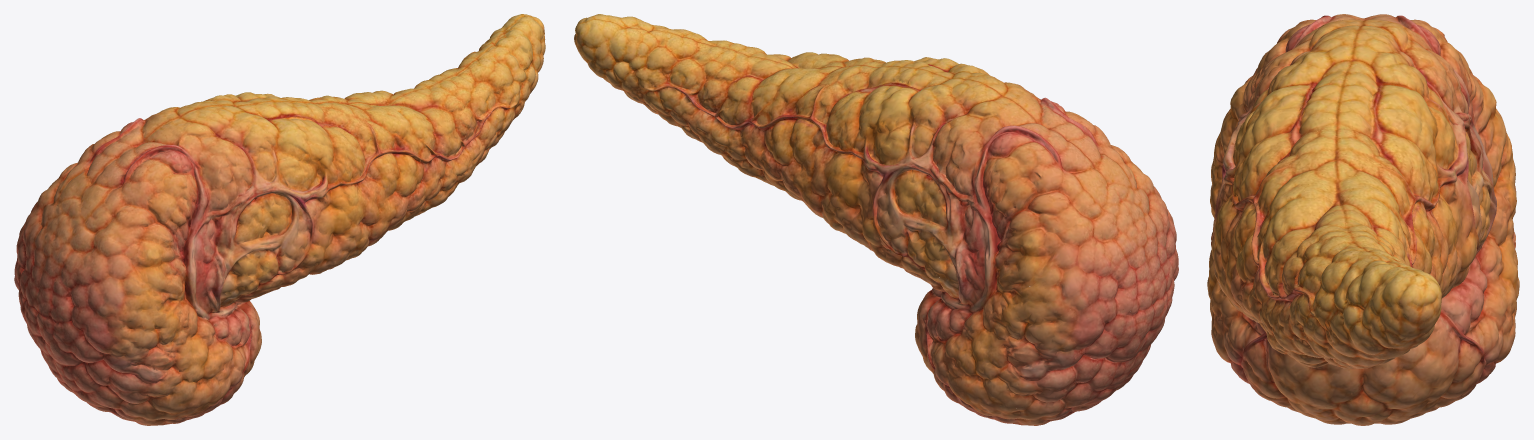
The model's file is pancreas.glb.
3 views of the same model, side by side, from view 1: azimuth 30°, elevation 25°; view 2: azimuth 150°, elevation 25°; view 3: azimuth 270°, elevation 25° (orthographic). The views are drawn at different scales.
Visible parts, largest first — view 1: tripo_node_28f9ac4d-a7ee-4a69-acaa-c6201ef7be03; view 2: tripo_node_28f9ac4d-a7ee-4a69-acaa-c6201ef7be03; view 3: tripo_node_28f9ac4d-a7ee-4a69-acaa-c6201ef7be03.
Part boxes in pixels (x1,y1,x2,y2): tripo_node_28f9ac4d-a7ee-4a69-acaa-c6201ef7be03: [14, 14, 545, 425]; tripo_node_28f9ac4d-a7ee-4a69-acaa-c6201ef7be03: [574, 14, 1178, 425]; tripo_node_28f9ac4d-a7ee-4a69-acaa-c6201ef7be03: [1207, 14, 1519, 425].
Size of the model in its own units: 0.9804 by 0.5222 by 0.3615.
1 material, 1 textured.
